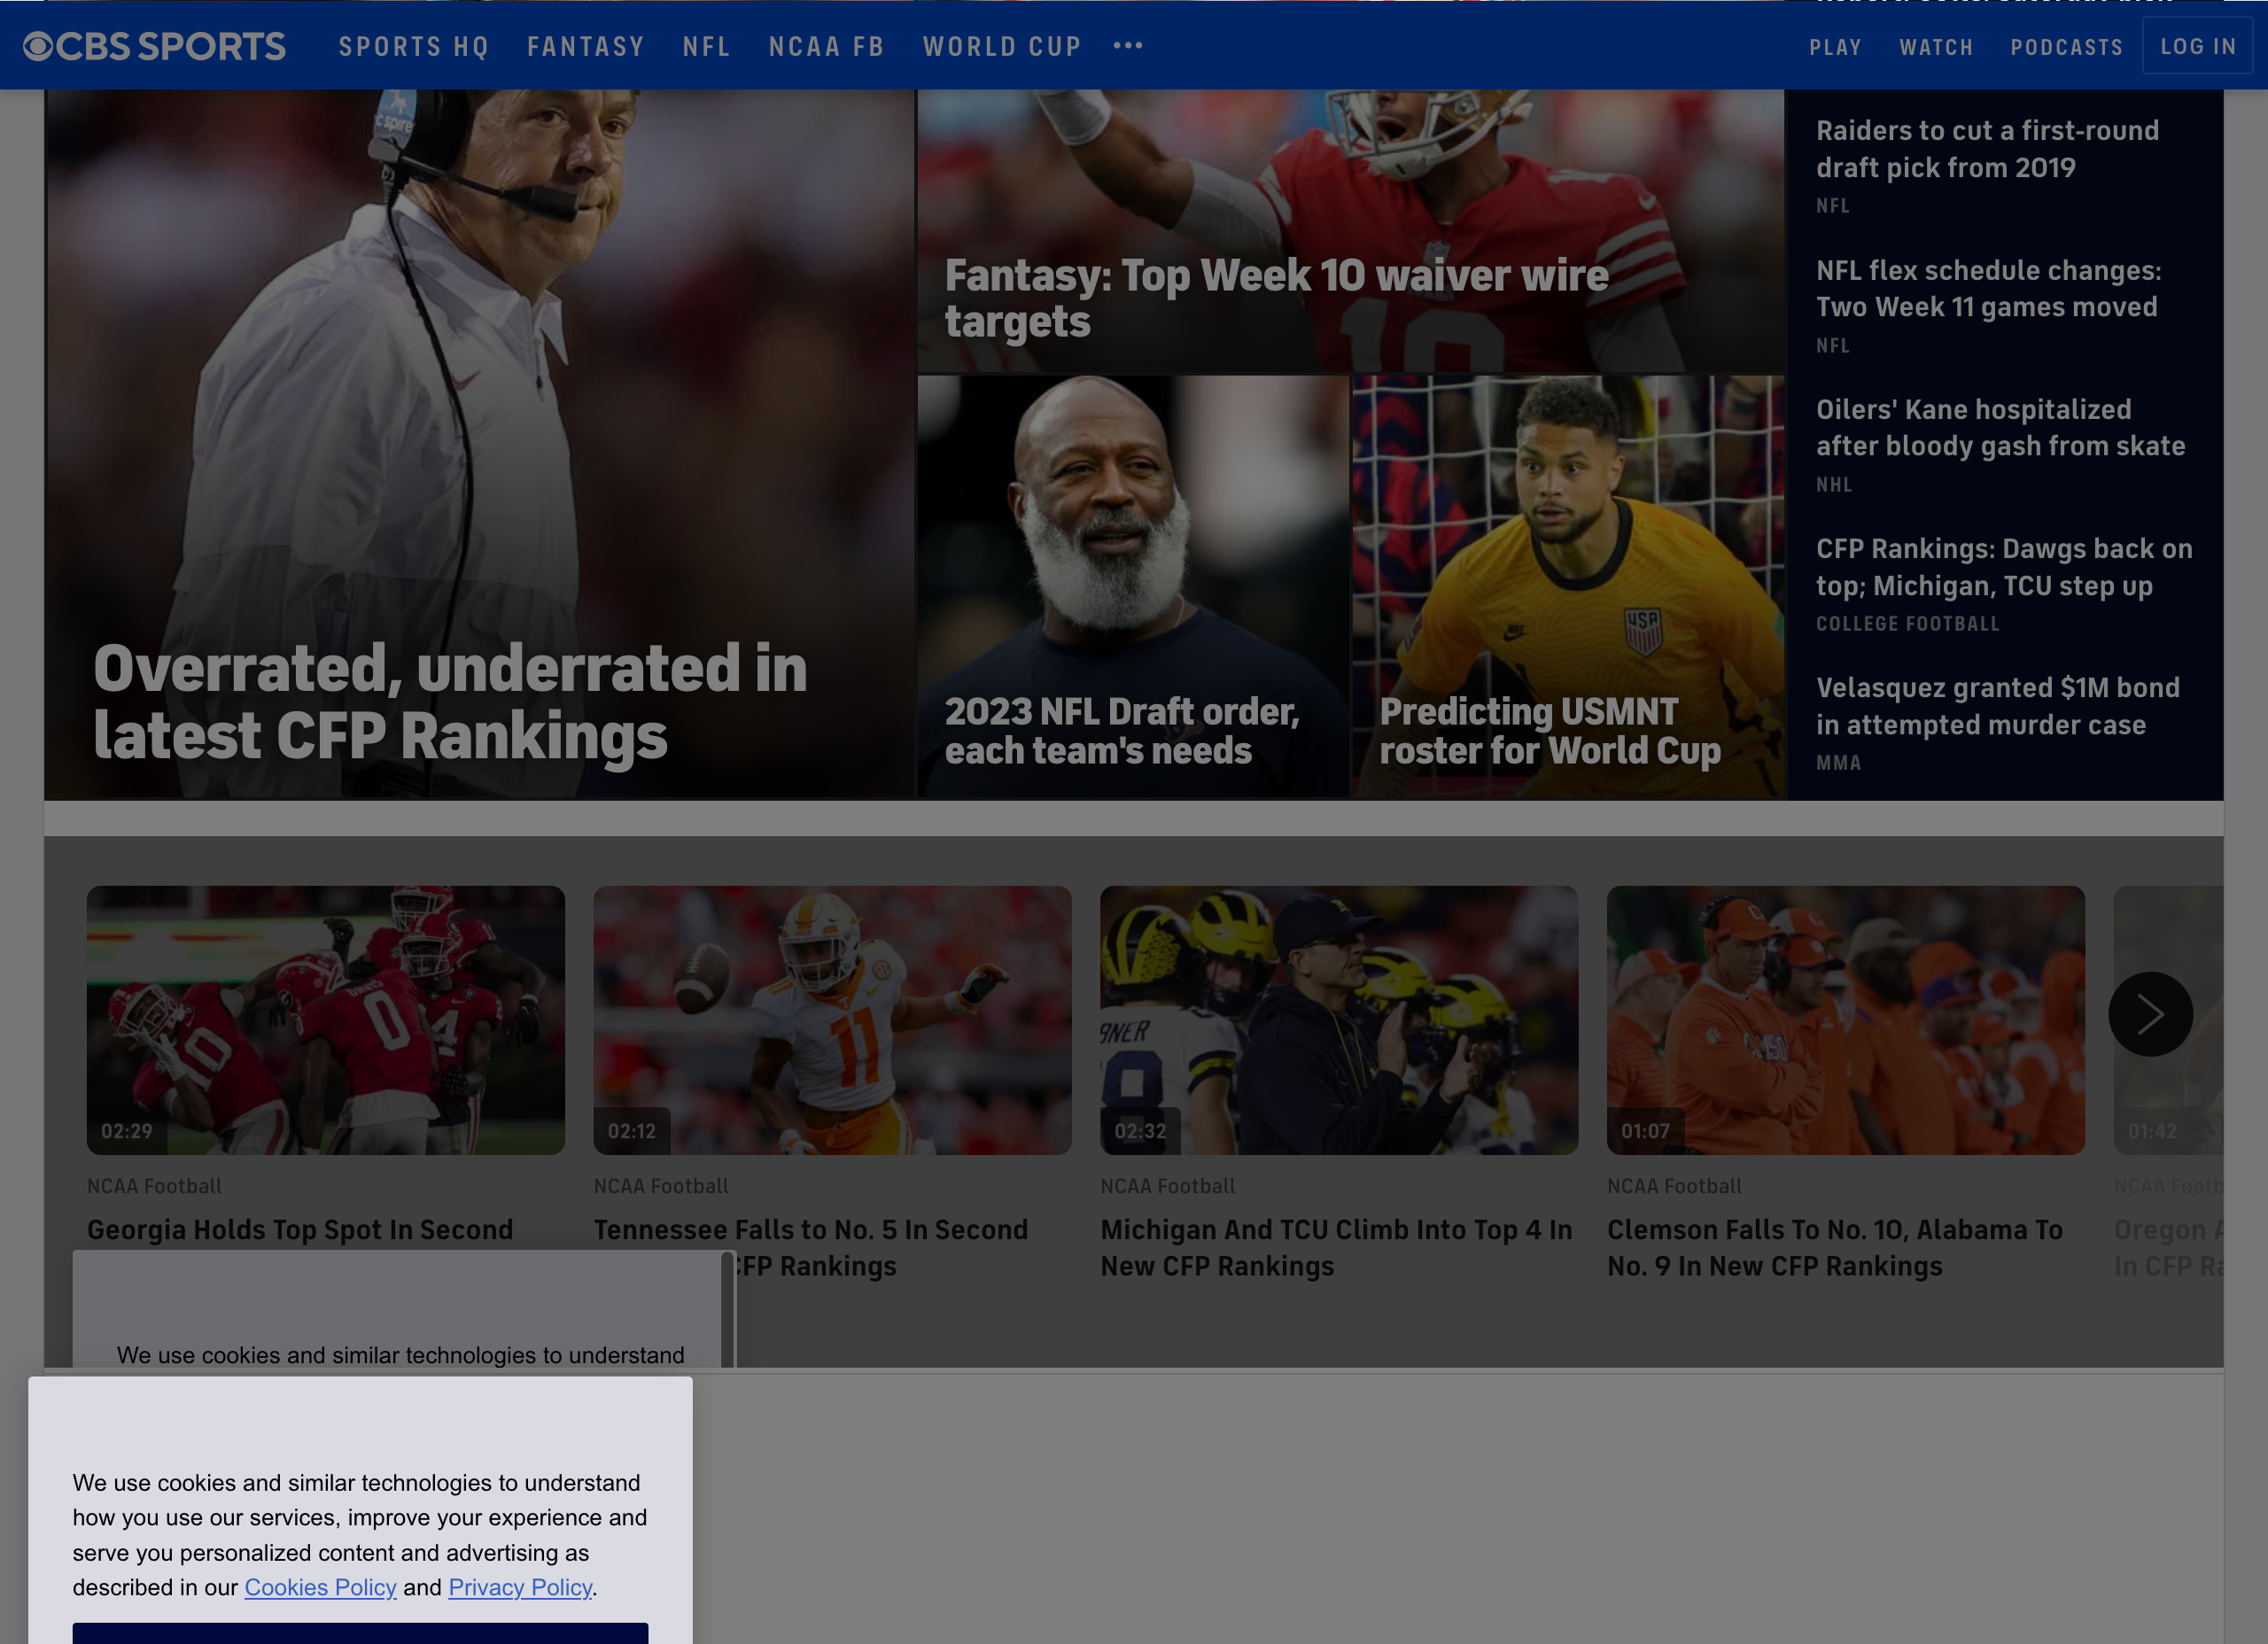Login: (2136, 14, 2261, 79)
